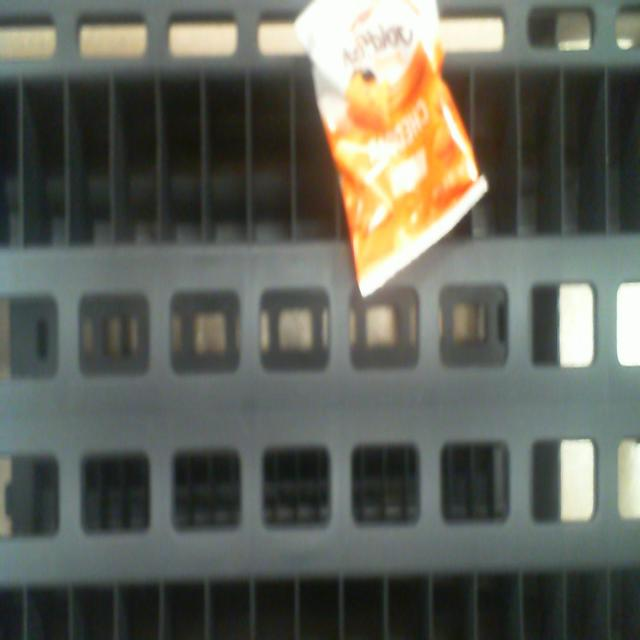snack: (296, 0, 485, 295)
